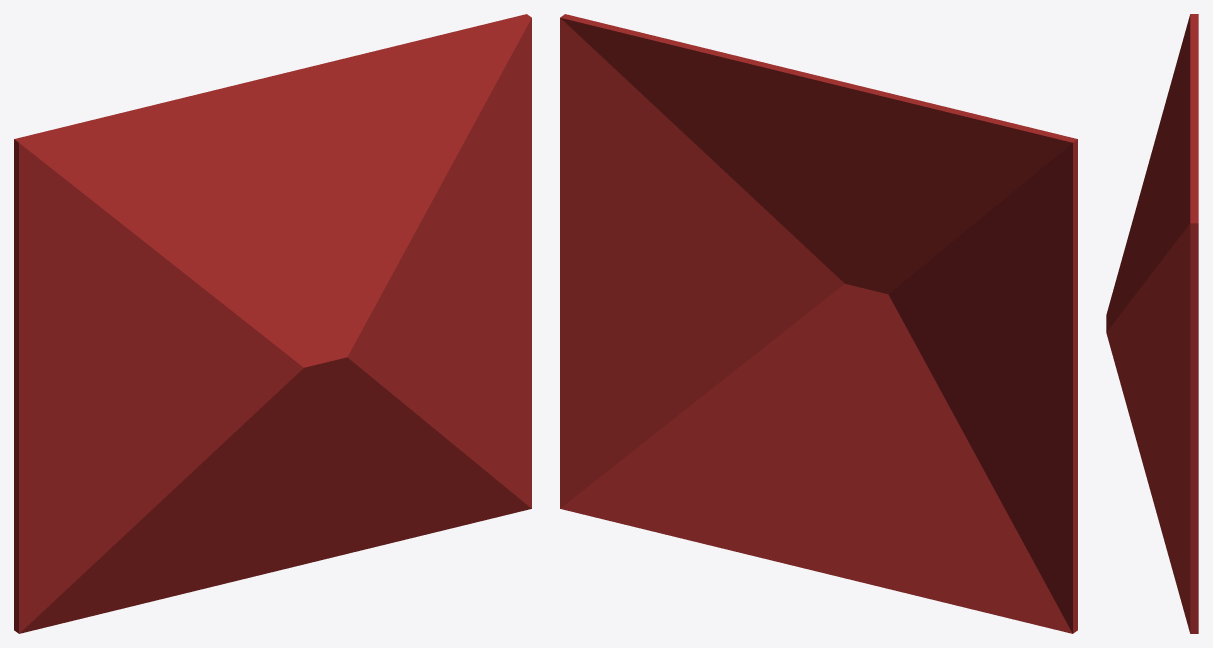
The model's file is 2Acoperis_2.80.glb.
3 renders of one model, left to right at view 1: azimuth 30°, elevation 25°; view 2: azimuth 150°, elevation 25°; view 3: azimuth 270°, elevation 25°, orthographic. The views are drawn at different scales.
Parts seen in each view (by area): view 1: IfcRoof_4_LAYER_IfcRoof, IfcRoof_2_LAYER_IfcRoof, IfcRoof_3_LAYER_IfcRoof, IfcRoof_1_LAYER_IfcRoof; view 2: IfcRoof_3_LAYER_IfcRoof, IfcRoof_1_LAYER_IfcRoof, IfcRoof_4_LAYER_IfcRoof, IfcRoof_2_LAYER_IfcRoof; view 3: IfcRoof_1_LAYER_IfcRoof, IfcRoof_4_LAYER_IfcRoof.
Boxes of the visible parts, left/top/right/bottom form: IfcRoof_4_LAYER_IfcRoof: left=14, top=14, right=531, bottom=367; IfcRoof_2_LAYER_IfcRoof: left=14, top=139, right=303, bottom=633; IfcRoof_3_LAYER_IfcRoof: left=19, top=357, right=531, bottom=633; IfcRoof_1_LAYER_IfcRoof: left=347, top=18, right=531, bottom=508; IfcRoof_3_LAYER_IfcRoof: left=560, top=284, right=1072, bottom=633; IfcRoof_1_LAYER_IfcRoof: left=560, top=18, right=844, bottom=508; IfcRoof_4_LAYER_IfcRoof: left=560, top=14, right=1077, bottom=294; IfcRoof_2_LAYER_IfcRoof: left=888, top=139, right=1077, bottom=633; IfcRoof_1_LAYER_IfcRoof: left=1106, top=223, right=1198, bottom=633; IfcRoof_4_LAYER_IfcRoof: left=1106, top=14, right=1198, bottom=332.
Bounding box in the file's own units: 11.8 × 10.8 × 2.2.
